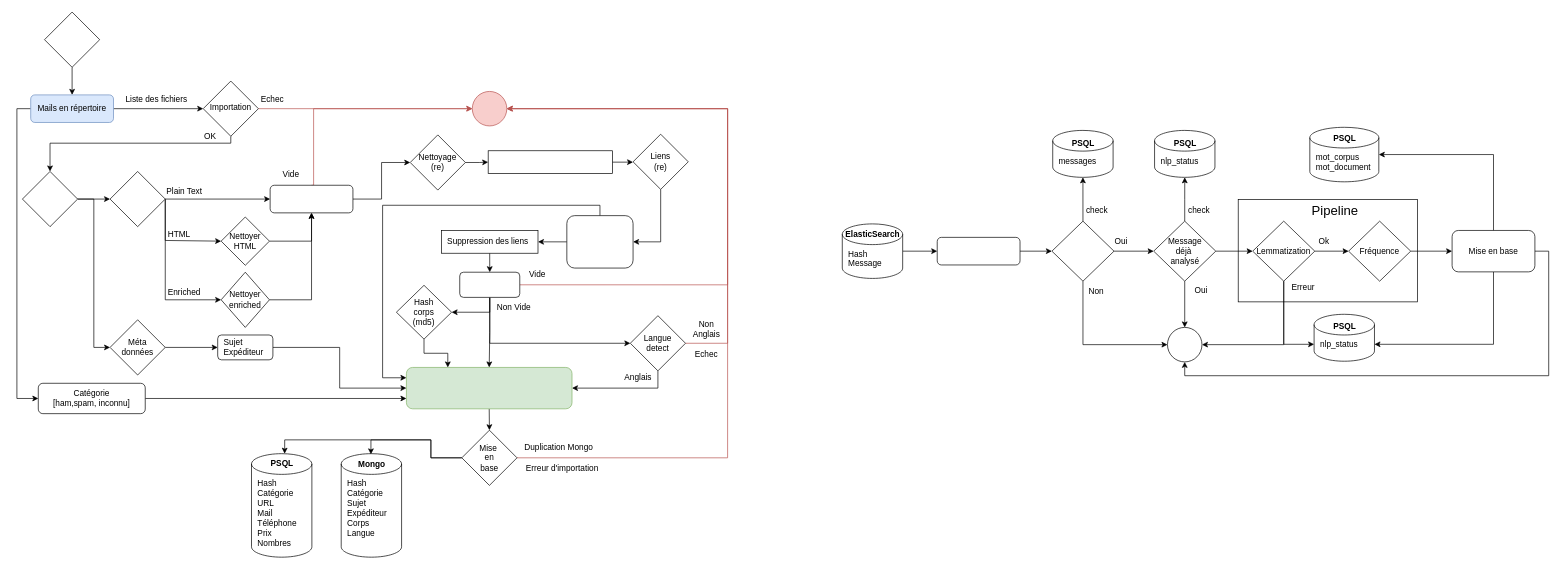
The diagram is 1566 pixels wide and 569 high, and some of its shapes have lost their labels. Each missing label, with the centre of its shape:
"Corps du mail" belongs at point (311, 199).
"Corps du mail Hash" belongs at point (978, 251).
"Corps nettoyé" belongs at point (489, 284).
"Création document" belongs at point (50, 199).
"Document à mettre en base" belongs at point (489, 388).
"Effacer réponses Effacer ponctuations superflue" belongs at point (549, 162).
"Extraire corps" belongs at point (137, 199).
"Fin" belongs at point (1184, 344).
"Présence en base" belongs at point (1082, 250).
"Rejet" belongs at point (489, 108).
"Récolte des mails" belongs at point (72, 39).
"URL MAIL TELEPHONE PRIX NOMBRE" belongs at point (599, 241).
